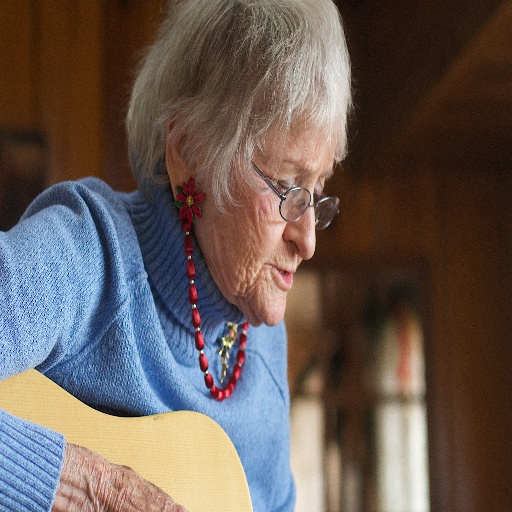hand: (76, 459, 189, 511)
